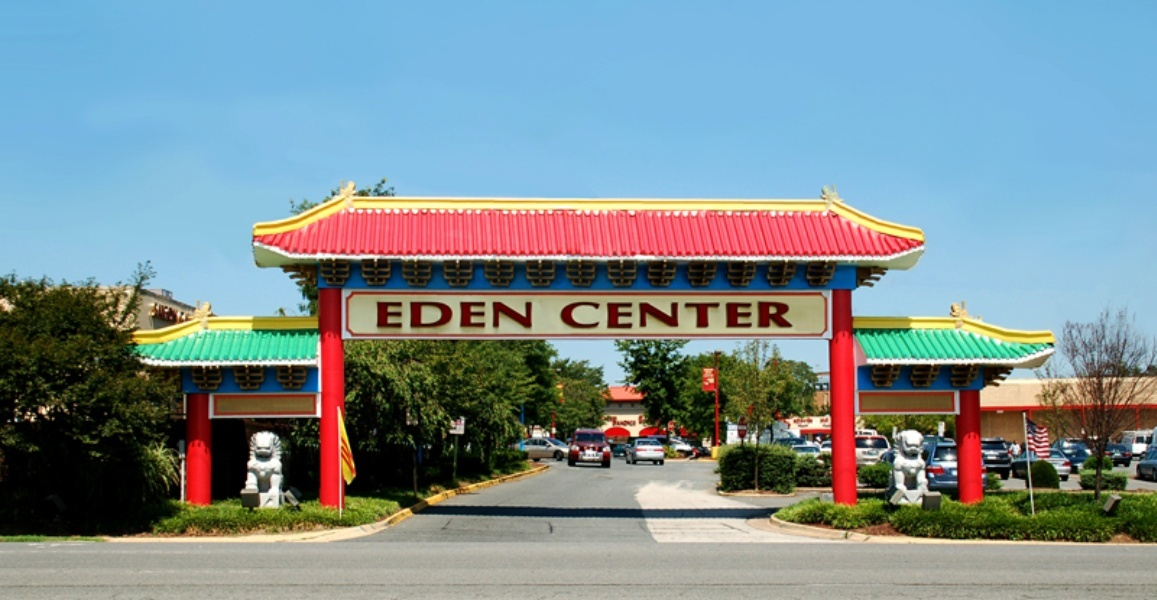text: (561, 298, 576, 329), (577, 298, 592, 329), (593, 298, 608, 329), (609, 298, 624, 329), (625, 298, 640, 329), (641, 298, 656, 329), (657, 298, 672, 329), (673, 298, 688, 329), (689, 298, 704, 329), (705, 298, 720, 329), (721, 298, 736, 329), (737, 298, 752, 329), (753, 298, 768, 329), (769, 298, 784, 329), (385, 300, 400, 330), (401, 300, 416, 330), (417, 300, 432, 330), (433, 300, 448, 330), (449, 300, 464, 330), (465, 300, 480, 330), (481, 300, 496, 330), (497, 300, 512, 330), (513, 300, 528, 330), (785, 298, 794, 329), (377, 300, 384, 330), (529, 300, 534, 330), (611, 418, 624, 428), (625, 418, 638, 428), (801, 417, 815, 426), (819, 415, 832, 424), (792, 417, 800, 426)
